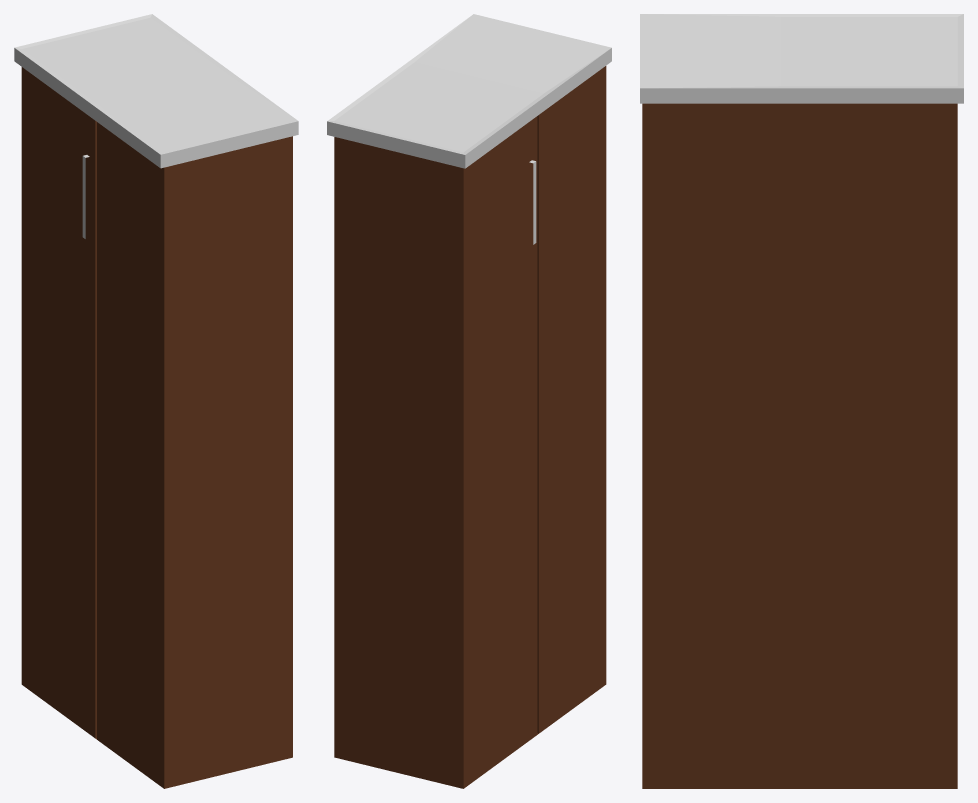
The model's file is BigKabinett.fbx.
3 renders of one model, left to right at view 1: azimuth 30°, elevation 25°; view 2: azimuth 150°, elevation 25°; view 3: azimuth 270°, elevation 25°, orthographic. The views are drawn at different scales.
Visible parts, largest first — view 1: Cube.090; view 2: Cube.090; view 3: Cube.090.
Boxes of the visible parts, box(x1,y1,x2,y2) form: Cube.090: box(14, 14, 298, 788); Cube.090: box(327, 14, 611, 788); Cube.090: box(640, 14, 963, 788).
Bounding box in the file's own units: 74.64 × 329 × 137.
